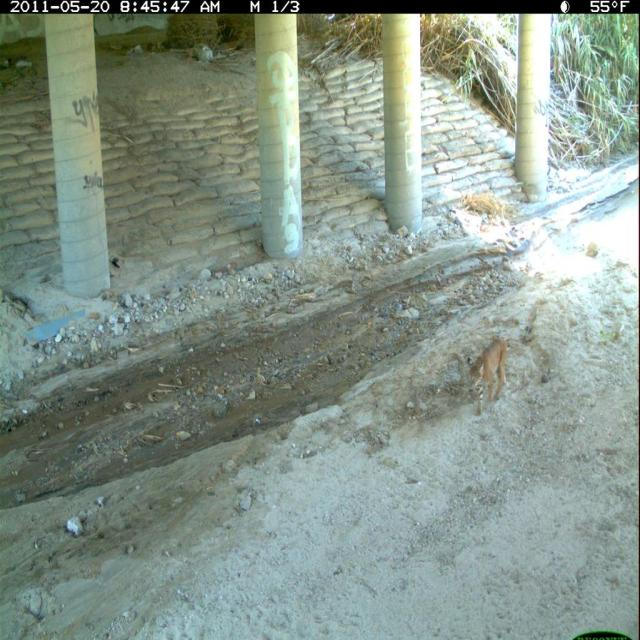bobcat: (465, 334, 510, 420)
